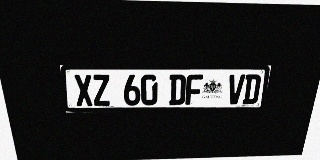0: (141, 74, 157, 105)
6: (123, 74, 140, 106)
D: (242, 74, 262, 104), (169, 74, 186, 105)
F: (185, 74, 203, 105)
V: (226, 74, 245, 104)
X: (73, 74, 94, 106)
Z: (92, 74, 111, 106)
